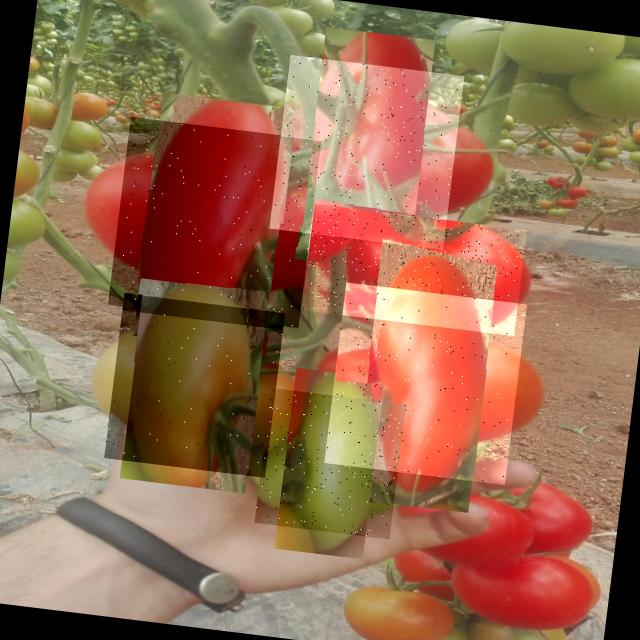Ripe Tomato: (107, 117, 321, 331), (324, 282, 526, 485), (269, 54, 464, 250), (302, 204, 526, 336)
Unripe Tomato: (103, 296, 284, 478), (254, 387, 406, 539)
